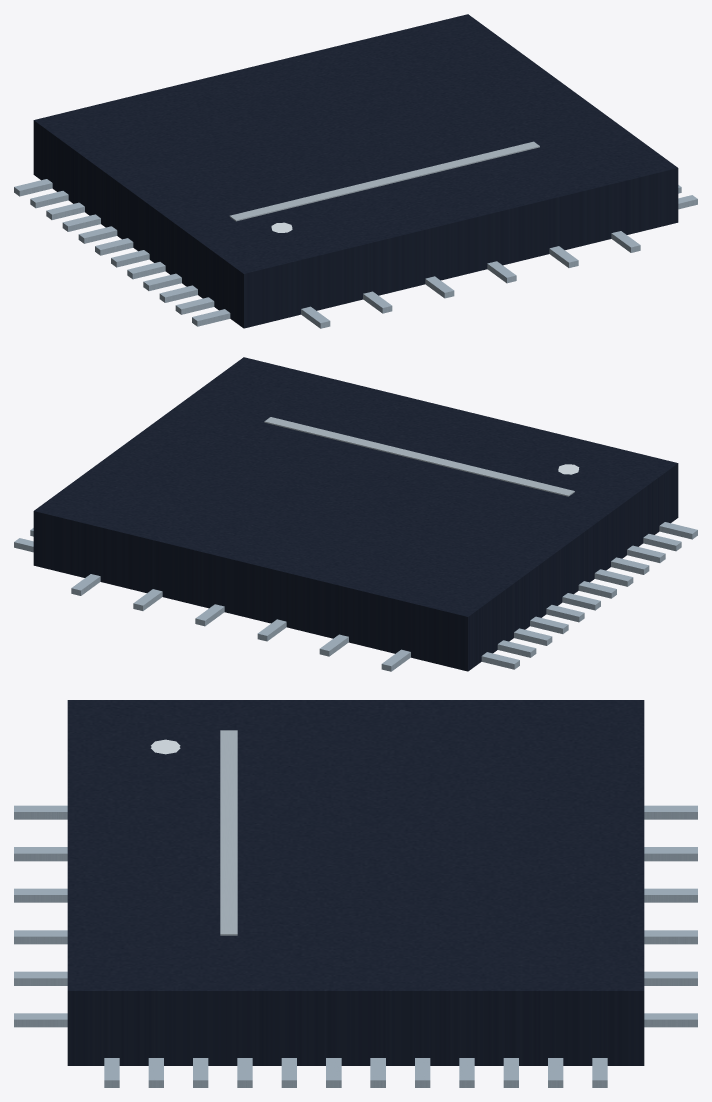
3 renders of one model, top to bottom at view 1: azimuth 30°, elevation 25°; view 2: azimuth 150°, elevation 25°; view 3: azimuth 270°, elevation 25°, orthographic. The views are drawn at different scales.
Visible parts, largest first — view 1: Part0000__PSMAT__IC_Epoxy, Part0001__PSMAT__IC_Laser; view 2: Part0000__PSMAT__IC_Epoxy, Part0001__PSMAT__IC_Laser; view 3: Part0000__PSMAT__IC_Epoxy, Part0001__PSMAT__IC_Laser, Part0027__PSMAT__Tin_Solder, Part0028__PSMAT__Tin_Solder, Part0029__PSMAT__Tin_Solder, Part0030__PSMAT__Tin_Solder, Part0031__PSMAT__Tin_Solder, Part0032__PSMAT__Tin_Solder, Part0033__PSMAT__Tin_Solder, Part0034__PSMAT__Tin_Solder, Part0035__PSMAT__Tin_Solder, Part0036__PSMAT__Tin_Solder (+2 smaller).
Part boxes in pixels (left/top/right/bottom): Part0000__PSMAT__IC_Epoxy: left=33, top=14, right=678, bottom=328; Part0001__PSMAT__IC_Laser: left=229, top=141, right=539, bottom=221; Part0000__PSMAT__IC_Epoxy: left=33, top=357, right=678, bottom=671; Part0001__PSMAT__IC_Laser: left=264, top=417, right=574, bottom=496; Part0000__PSMAT__IC_Epoxy: left=67, top=700, right=644, bottom=1065; Part0001__PSMAT__IC_Laser: left=220, top=730, right=237, bottom=935; Part0027__PSMAT__Tin_Solder: left=644, top=805, right=697, bottom=819; Part0028__PSMAT__Tin_Solder: left=644, top=847, right=697, bottom=861; Part0029__PSMAT__Tin_Solder: left=644, top=888, right=697, bottom=902; Part0030__PSMAT__Tin_Solder: left=644, top=930, right=697, bottom=944; Part0031__PSMAT__Tin_Solder: left=644, top=971, right=697, bottom=985; Part0032__PSMAT__Tin_Solder: left=644, top=1013, right=697, bottom=1027; Part0033__PSMAT__Tin_Solder: left=14, top=805, right=67, bottom=819; Part0034__PSMAT__Tin_Solder: left=14, top=847, right=67, bottom=861; Part0035__PSMAT__Tin_Solder: left=14, top=888, right=67, bottom=902; Part0036__PSMAT__Tin_Solder: left=14, top=930, right=67, bottom=944.
Size of the model in its own units: 0.0206 by 0.00225 by 0.0178.
4 materials, 4 textured.
